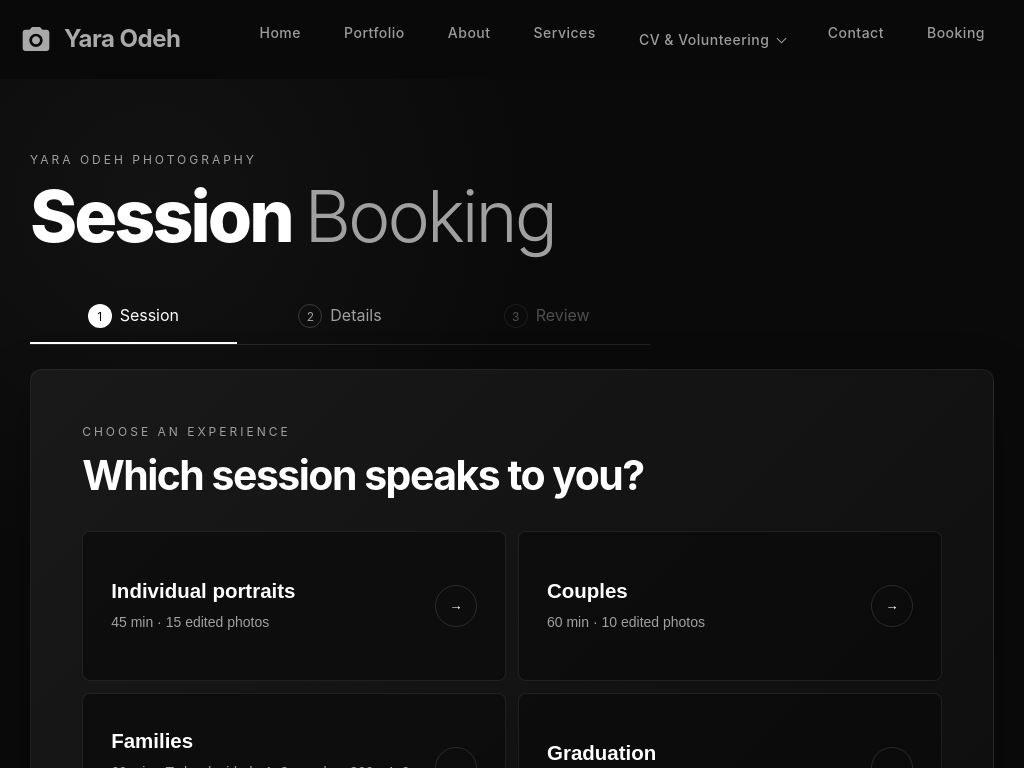
Booking customer email › sends a cash-only confirmation email to the booking customer
Click the button "Individual portraits 45 min · 15 edited photos →": (203, 590) [82,531,506,681]
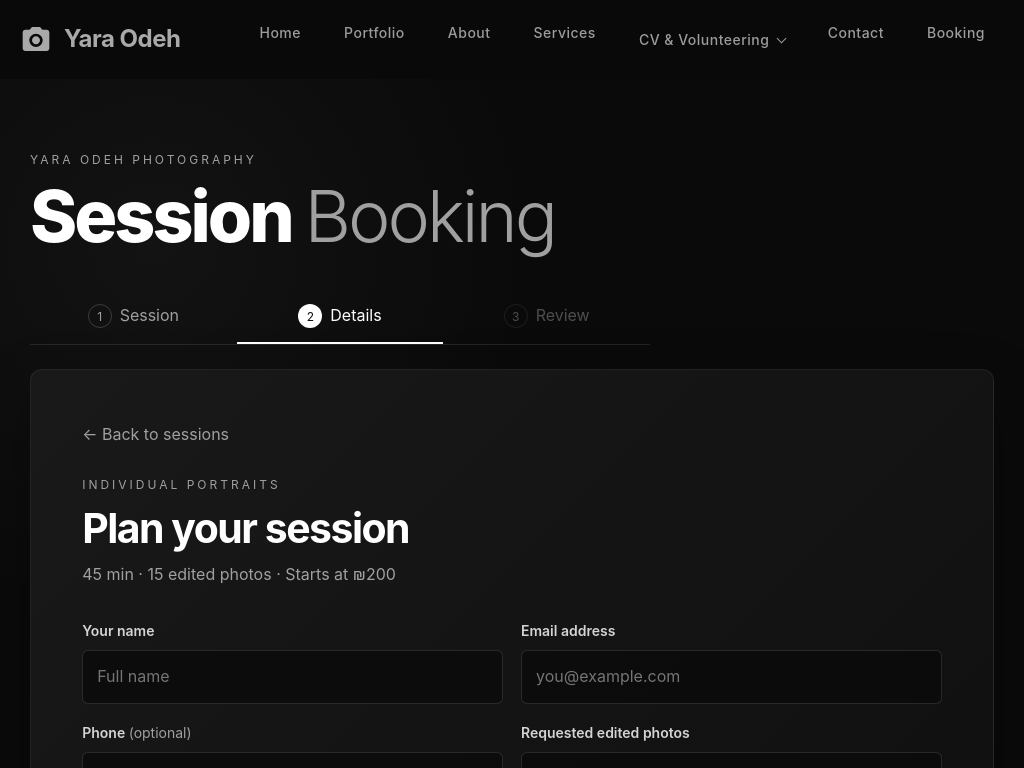
In the field labelled "Your name": (293, 677) [82,650,503,704], type "A Client"
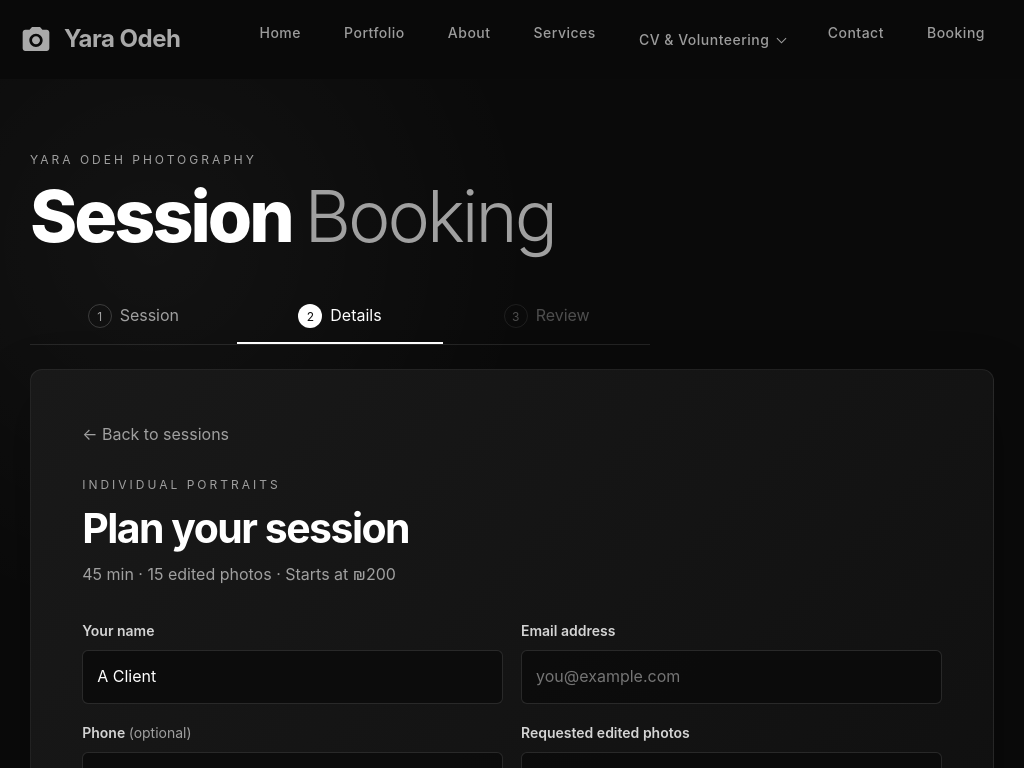
In the field labelled "Email address": (731, 677) [521,650,942,704], type "client@example.com"
(page scrolled)
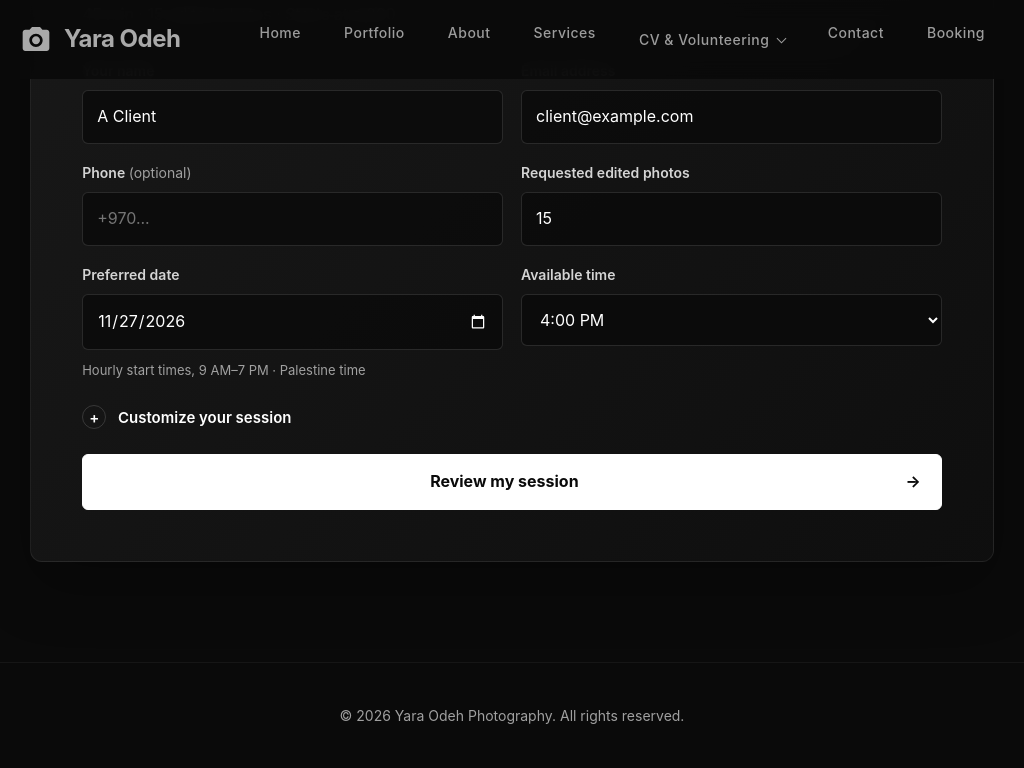
Click the button "Review my session →": (512, 482) [82,454,942,510]
(page scrolled)
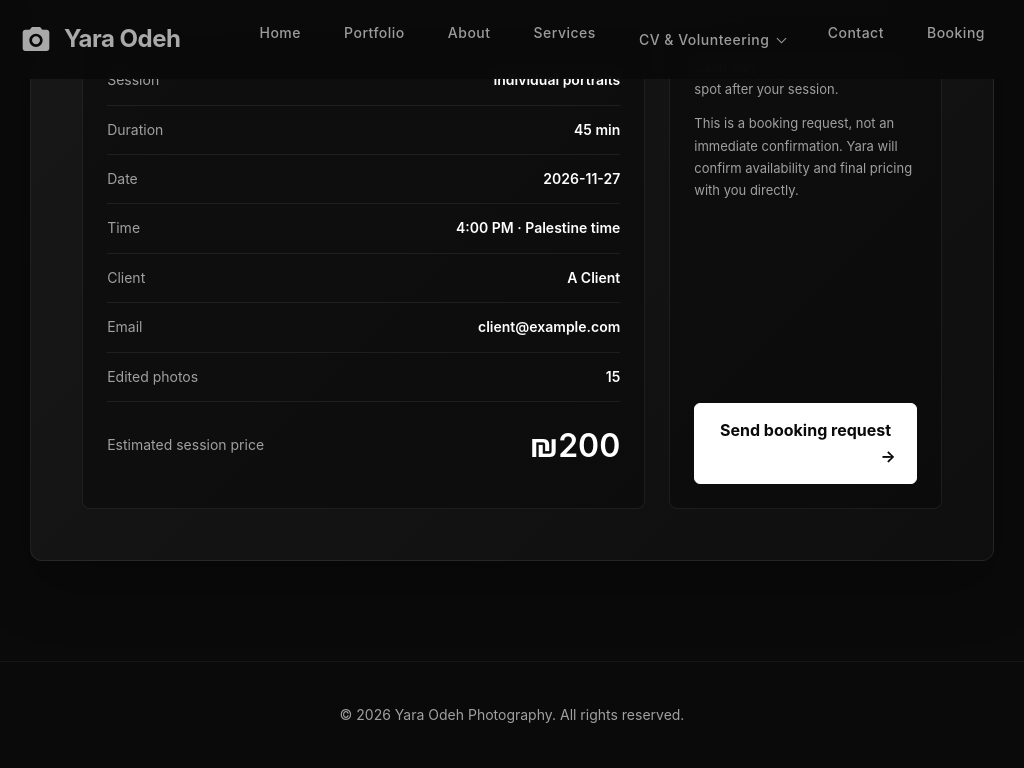
Click the button "Send booking request →": (806, 444) [694,403,917,484]
(page scrolled)
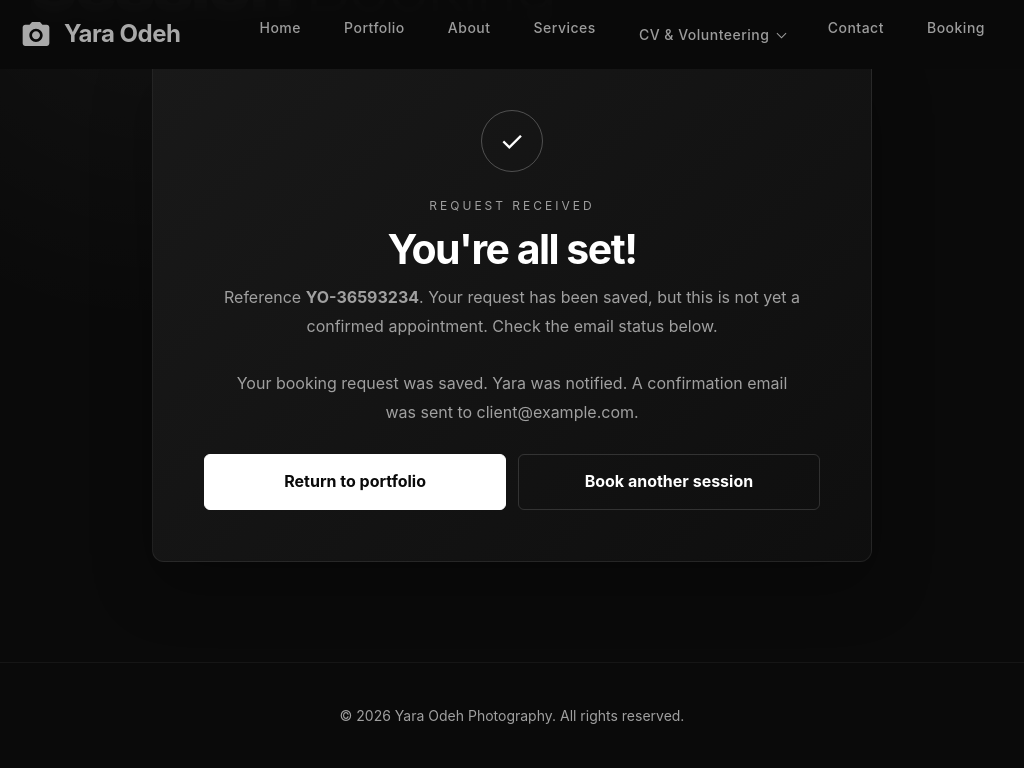
Expected: the message shows "A confirmation email was sent to client@example.com", [237,373,787,422]
